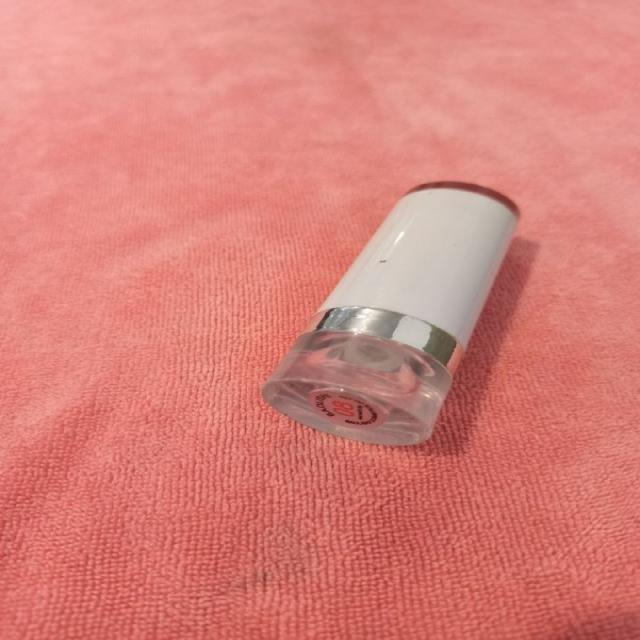lipstick: (258, 180, 520, 446)
